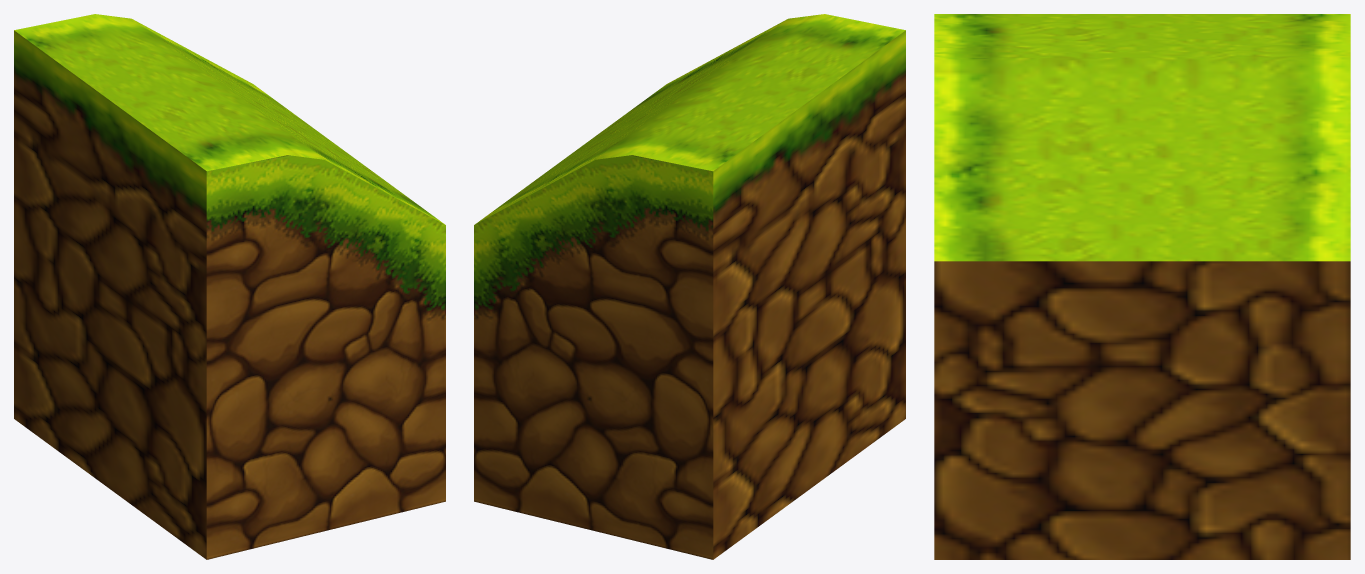
Rendered from Road_8.fbx.
3 views of the same model, side by side, from view 1: azimuth 30°, elevation 25°; view 2: azimuth 150°, elevation 25°; view 3: azimuth 270°, elevation 25° (orthographic). The views are drawn at different scales.
Visible parts, largest first — view 1: Road_8; view 2: Road_8; view 3: Road_8.
Boxes of the visible parts, left/top/right/bottom form: Road_8: left=14, top=14, right=445, bottom=559; Road_8: left=474, top=14, right=905, bottom=559; Road_8: left=934, top=14, right=1350, bottom=559.
Size of the model in its own units: 3.05 by 4.74 by 4.26.
1 material, 1 textured.
